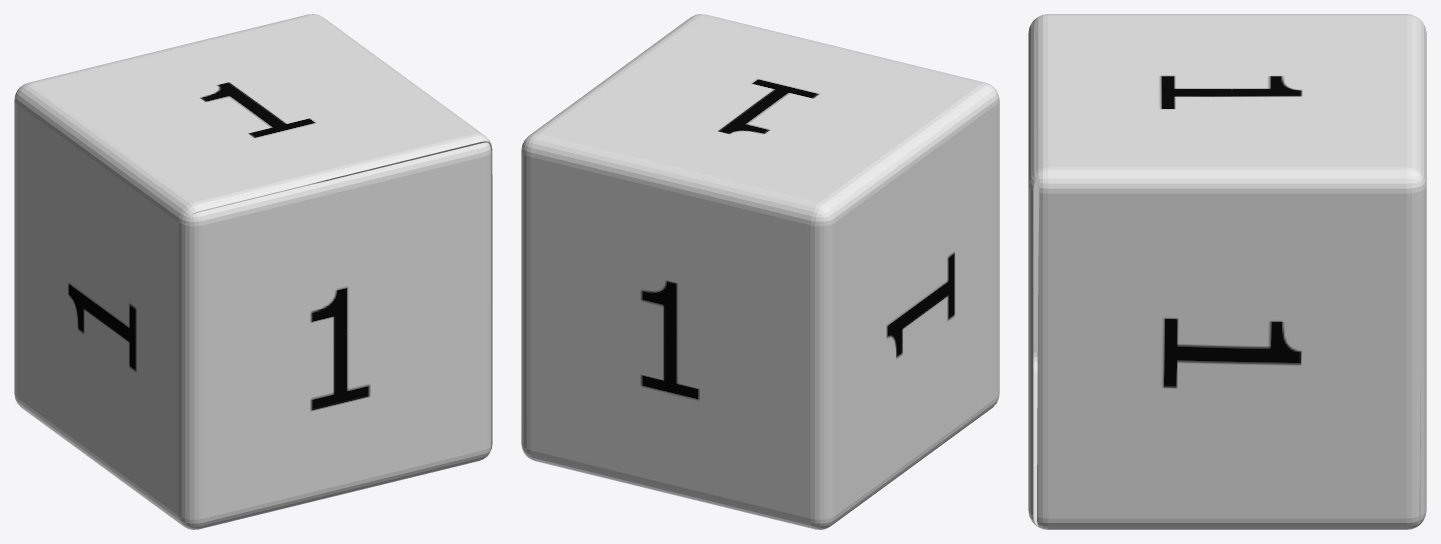
Rendered from Key1a.fbx.
The picture shows the model from 3 angles, left to right: view 1: azimuth 30°, elevation 25°; view 2: azimuth 150°, elevation 25°; view 3: azimuth 270°, elevation 25°; orthographic projection. The views are drawn at different scales.
Parts seen in each view (by area): view 1: Cube; view 2: Cube; view 3: Cube.
Part boxes in pixels (<box>): Cube: <box>14,14,492,529</box>; Cube: <box>521,14,999,529</box>; Cube: <box>1028,14,1426,529</box>.
Bounding box in the file's own units: 200 × 200 × 200.
1 material, 1 textured.
